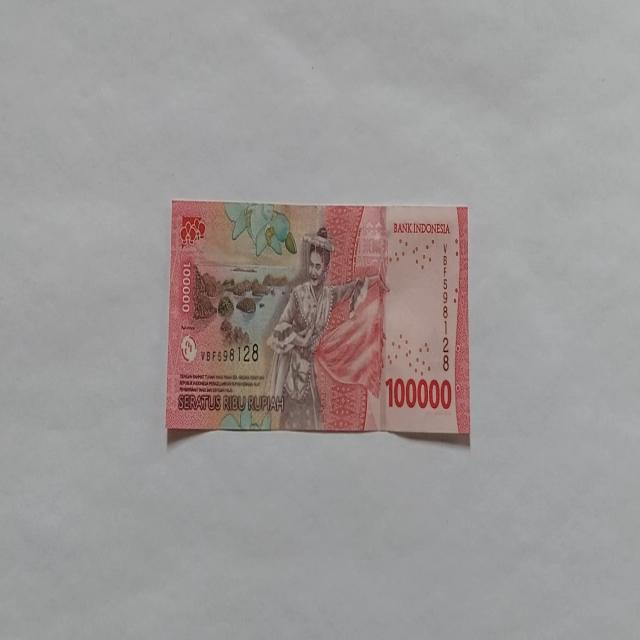seratus ribu rupiah: (165, 200, 471, 440), (261, 226, 381, 431)
